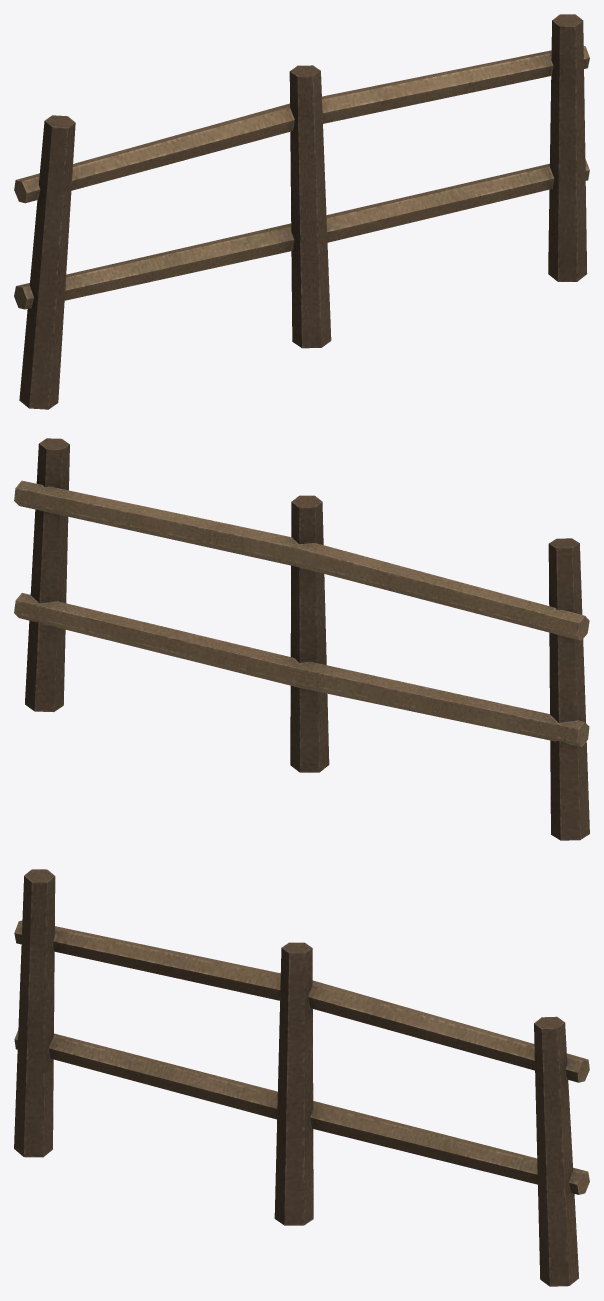
Rendered from cerca.glb.
3 views of the same model, one above another, from view 1: azimuth 30°, elevation 25°; view 2: azimuth 150°, elevation 25°; view 3: azimuth 330°, elevation 25° (orthographic).
Parts seen in each view (by area): view 1: cerca; view 2: cerca; view 3: cerca.
Part boxes in pixels (bbox=[...]): cerca: bbox=[14, 14, 589, 409]; cerca: bbox=[14, 438, 589, 840]; cerca: bbox=[14, 869, 589, 1286].
Size of the model in its own units: 2.5 by 1.21 by 0.206.
1 material, 1 textured.
